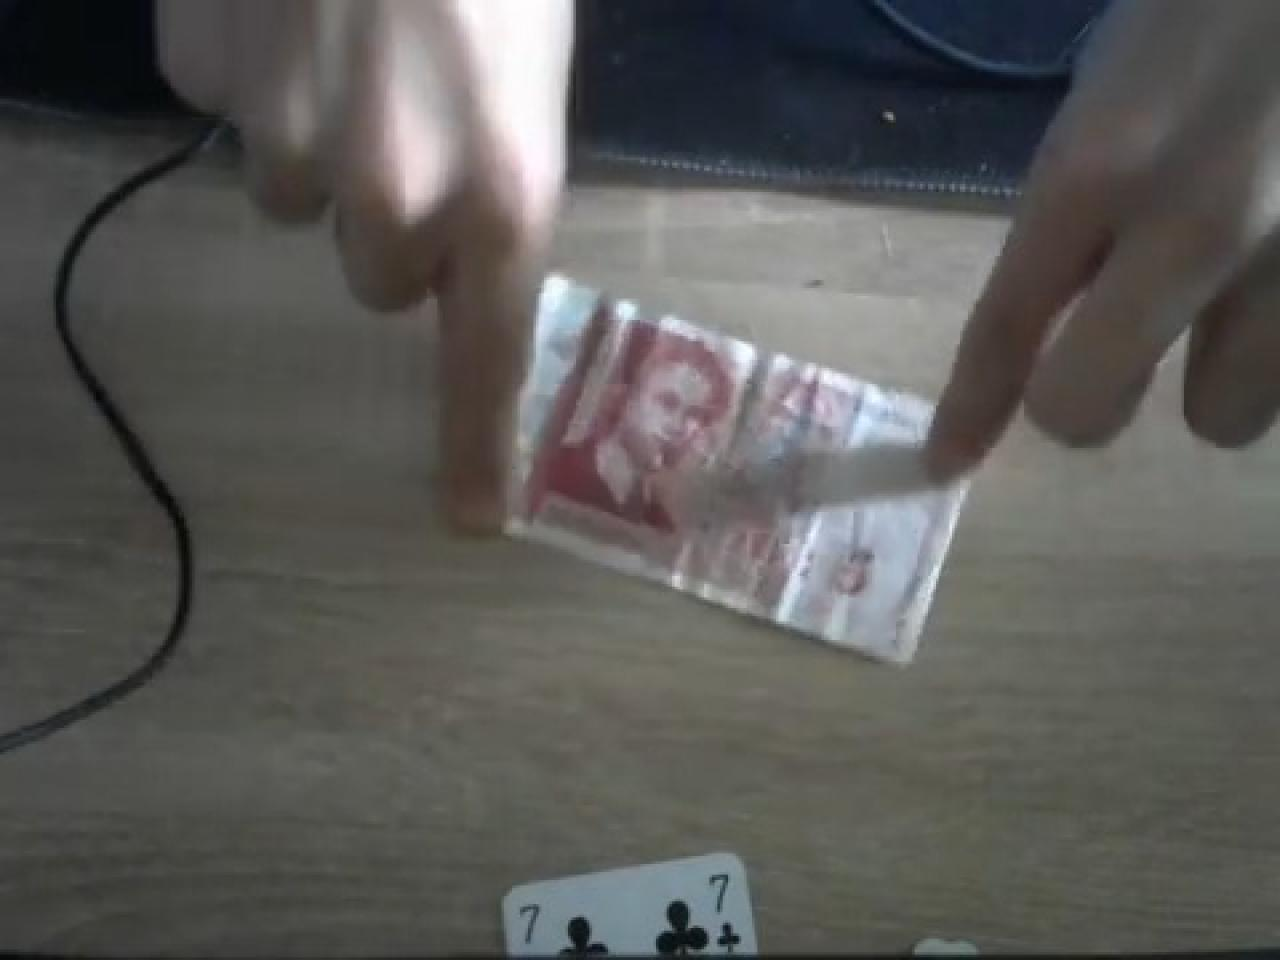5leva: (509, 280, 968, 670)
